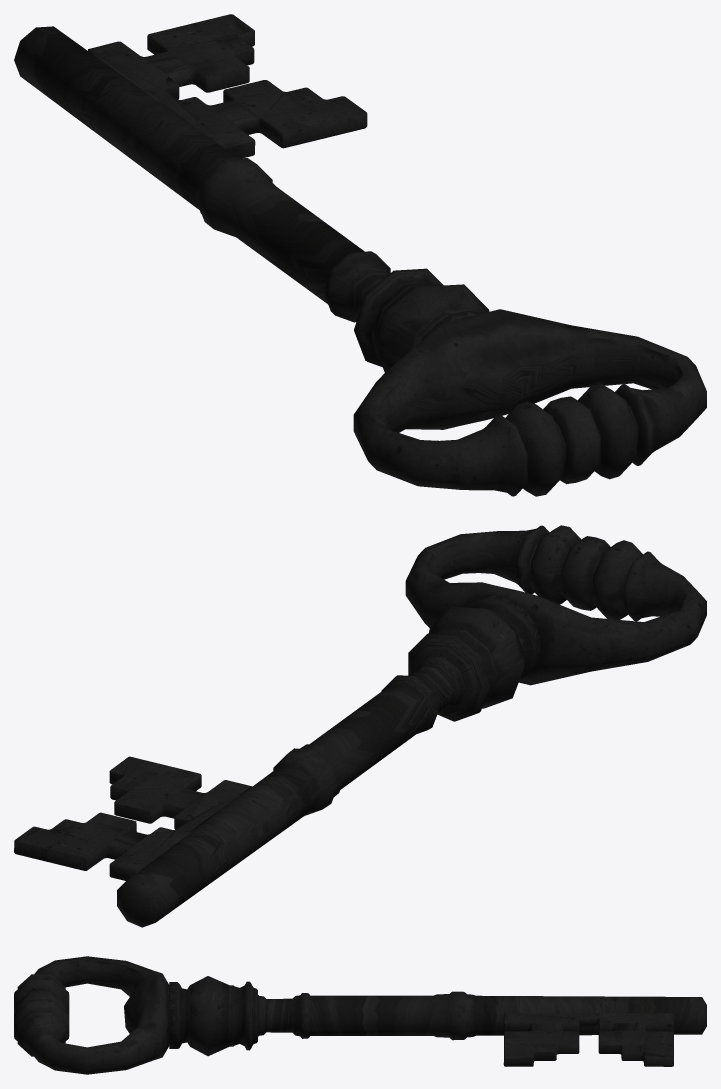
File: key.obj
3 views of the same model, one above another, from view 1: azimuth 30°, elevation 25°; view 2: azimuth 150°, elevation 25°; view 3: azimuth 270°, elevation 25° (orthographic). The views are drawn at different scales.
Parts seen in each view (by area): view 1: Key.OBJ.1; view 2: Key.OBJ.1; view 3: Key.OBJ.1.
Boxes of the visible parts, bbox=[...] form: Key.OBJ.1: bbox=[14, 14, 706, 496]; Key.OBJ.1: bbox=[14, 525, 706, 927]; Key.OBJ.1: bbox=[14, 956, 706, 1074].
Bounding box in the file's own units: 8.89 × 2.99 × 25.57.
1 material, 1 textured.
